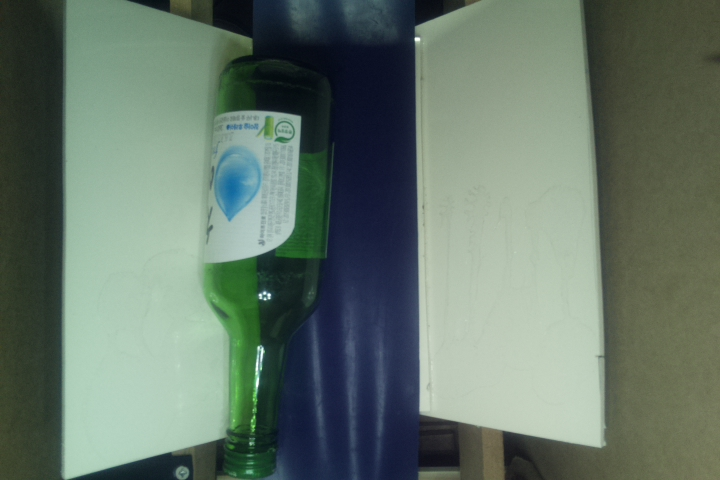soju: (203, 52, 340, 480)
